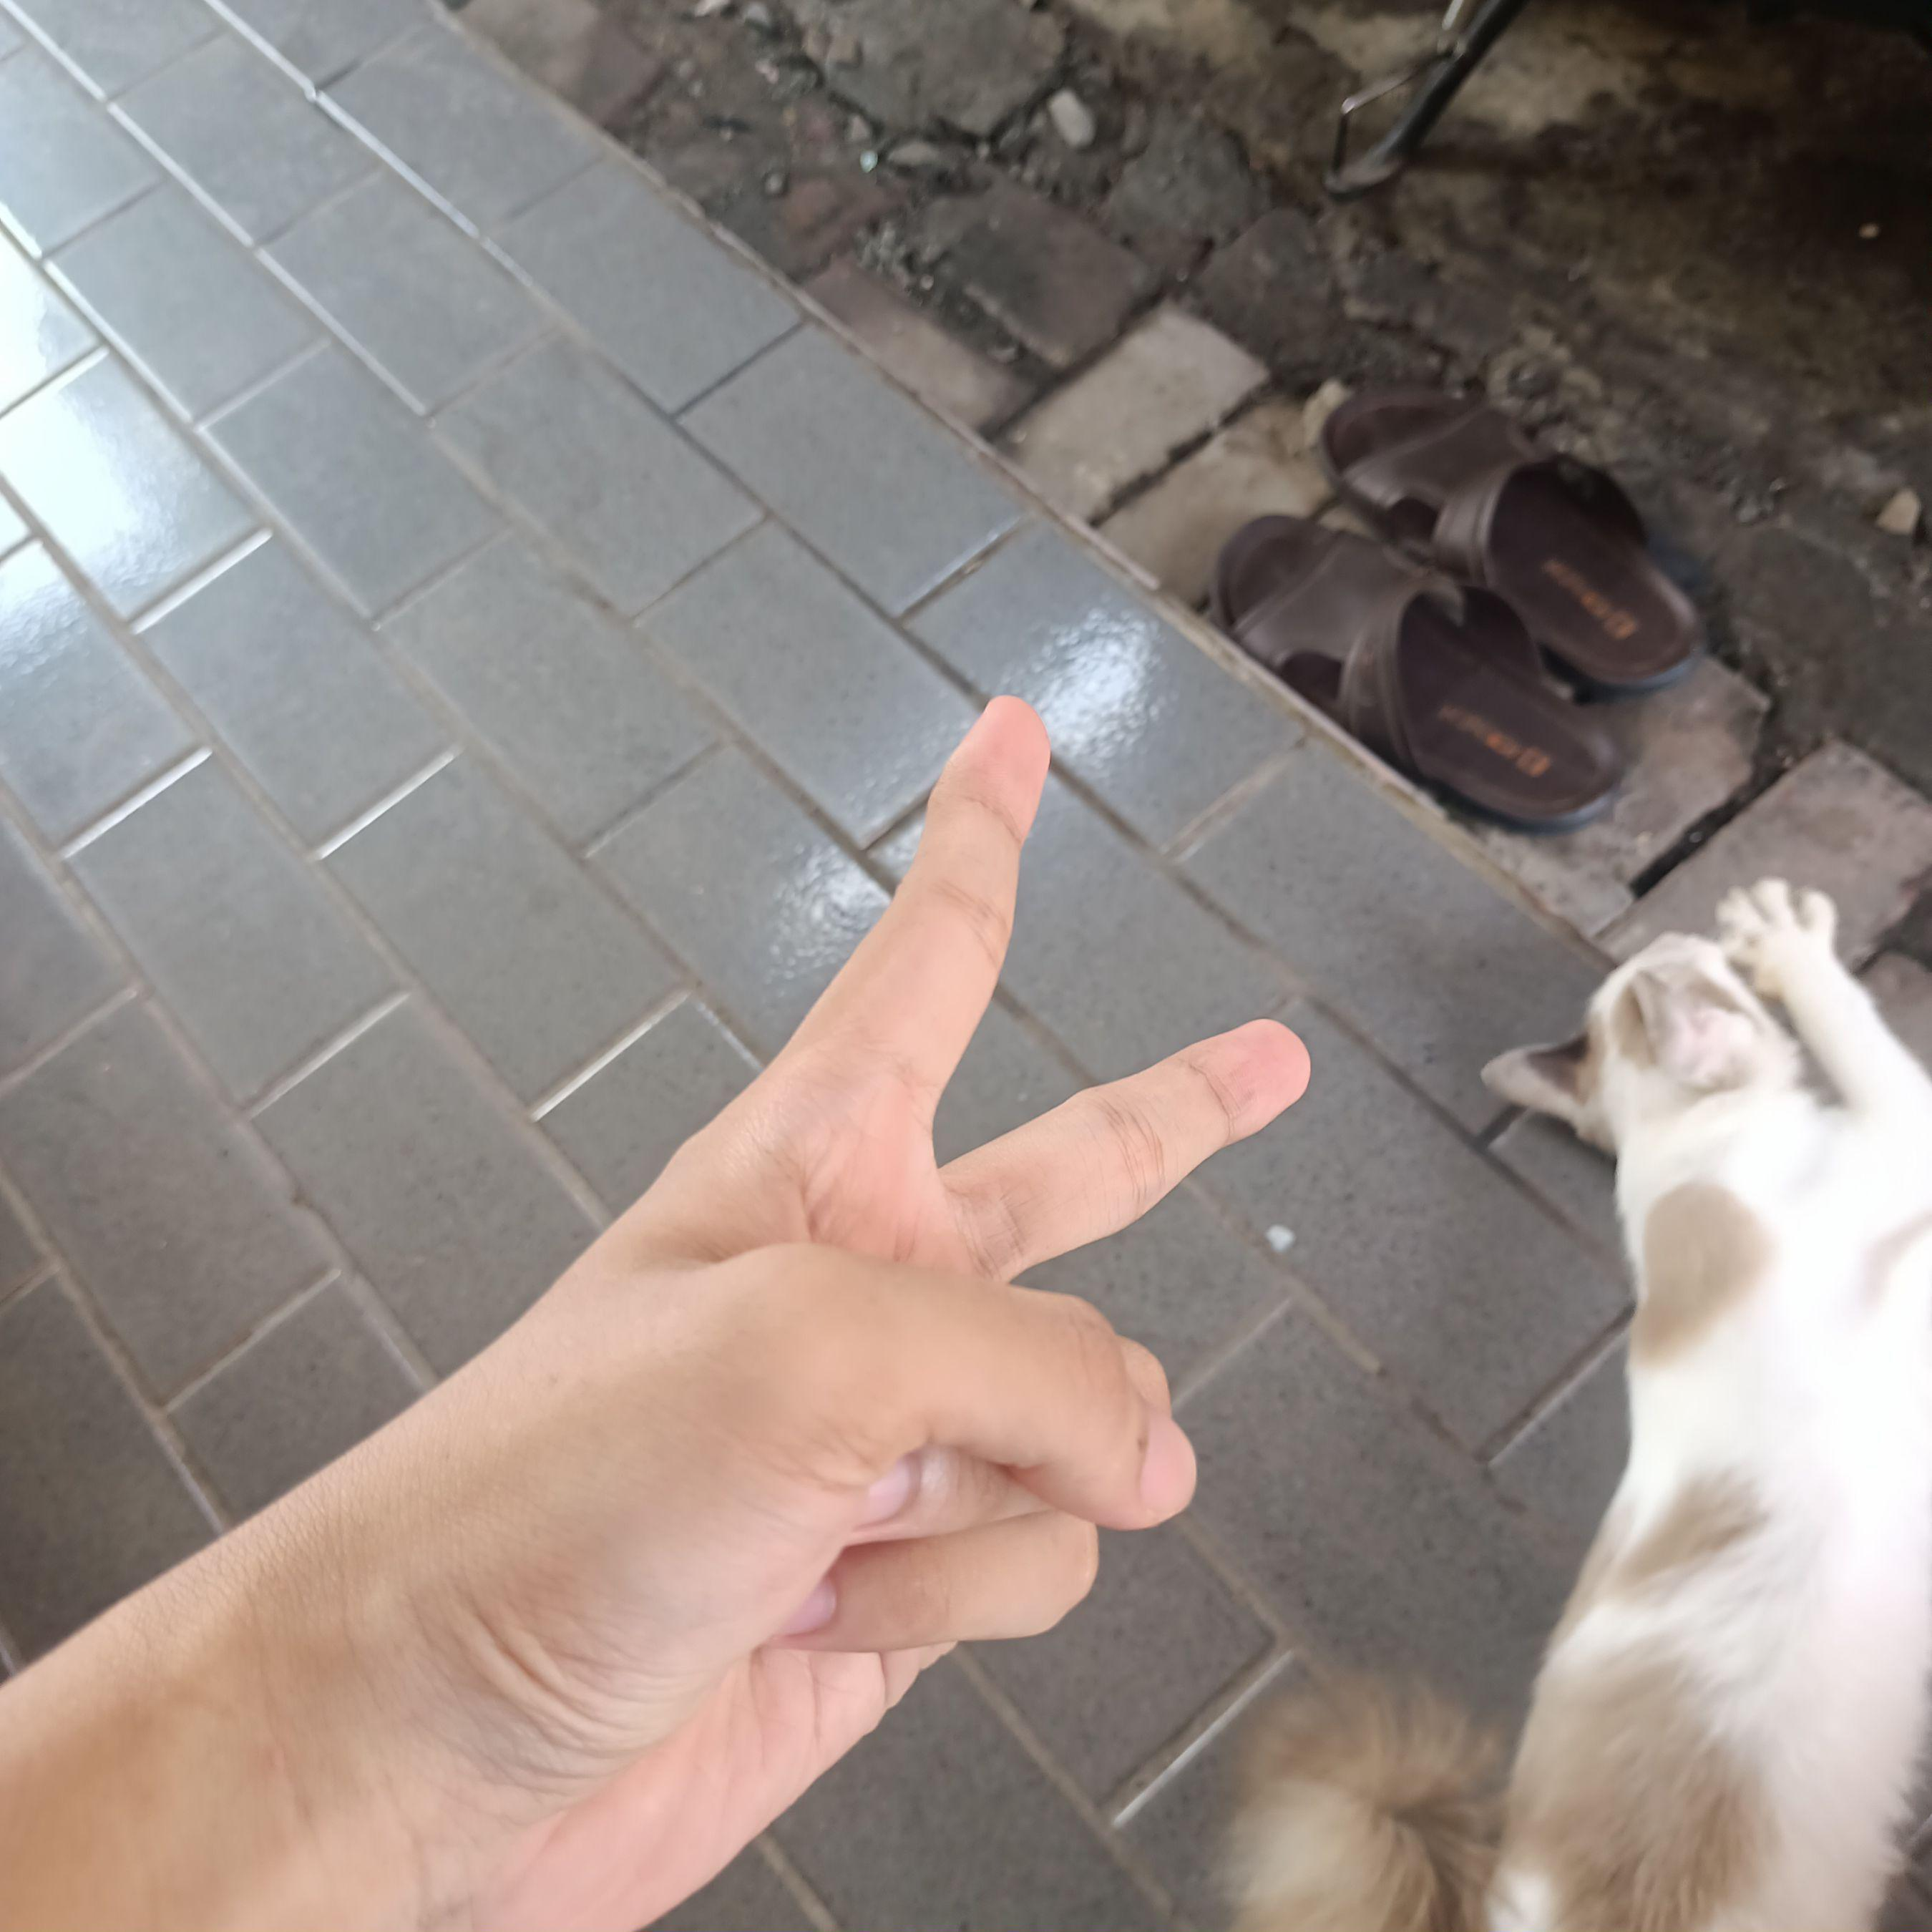scissors: (51, 663, 1316, 1930)
